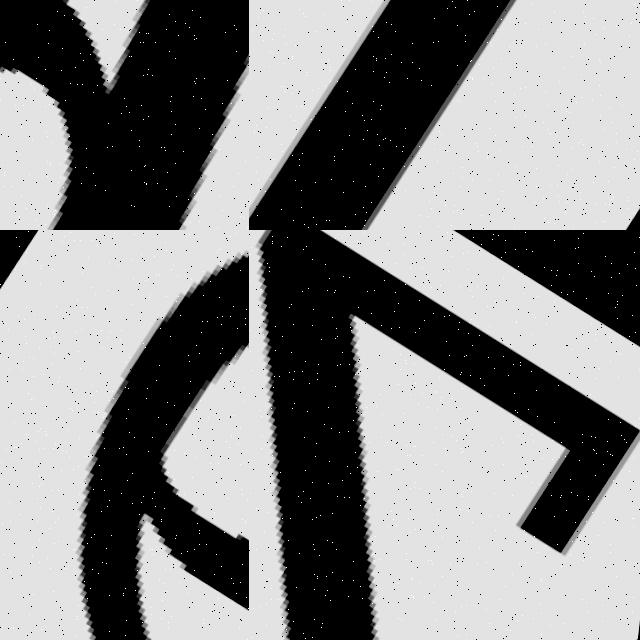9: (0, 230, 249, 640)
H: (0, 0, 249, 230)
R: (249, 0, 640, 230)
Z: (249, 230, 640, 640)
